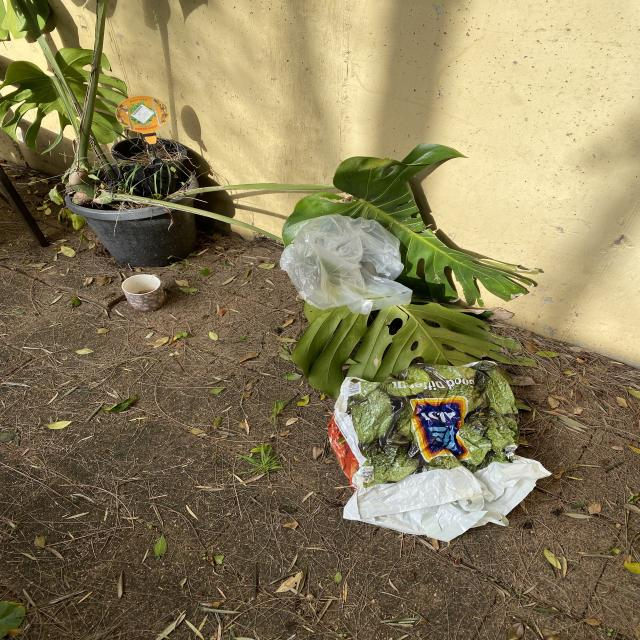bag: (326, 357, 557, 543)
can: (108, 96, 169, 144)
cloth: (273, 216, 415, 316)
container: (59, 189, 210, 270), (108, 135, 195, 195)
cup: (118, 268, 176, 318)
